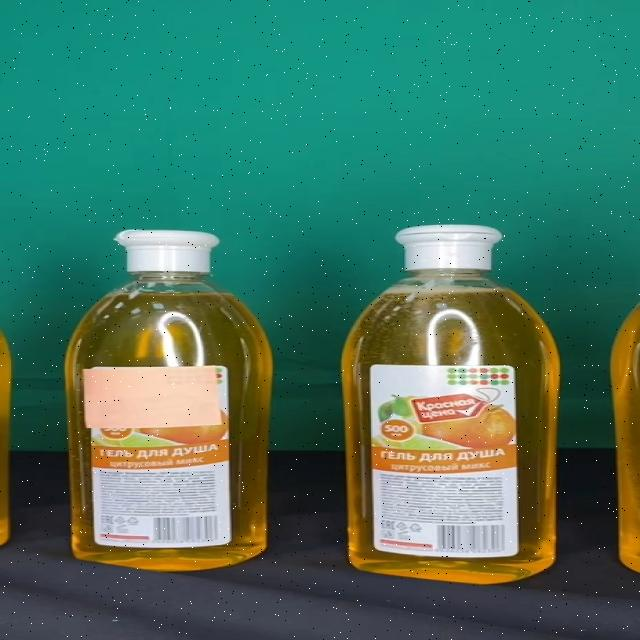Bottle: (344, 224, 558, 584), (65, 230, 272, 570)
Cap: (115, 230, 221, 274), (396, 226, 500, 269)
